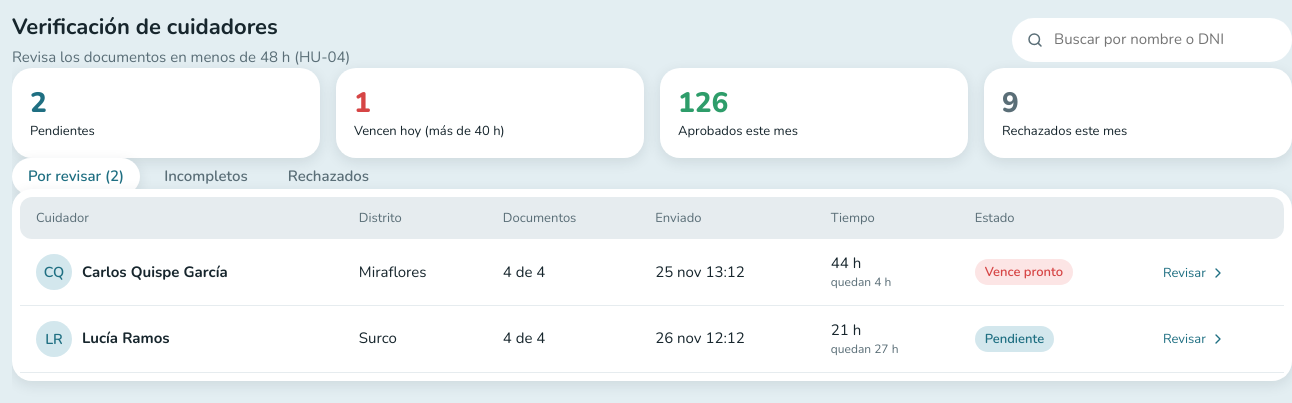
it: Verificaciones pendientes › filtra por DNI
The image size is (1292, 403).
Expected: the text "Lucía Ramos" is shown, [82,328,170,349]
Type "4011" into the search field.
click(1165, 40); type("4011")  # box [1052,28,1278,51]
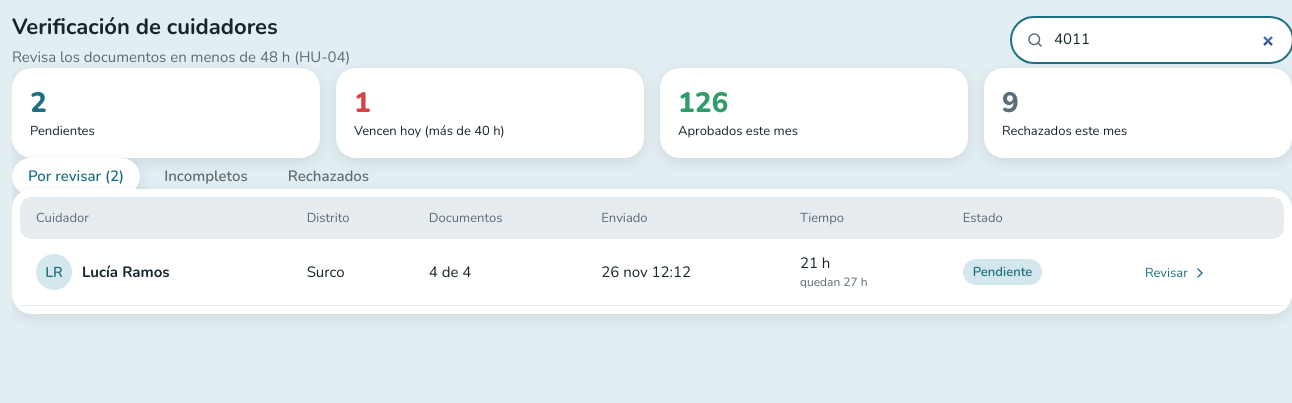
Expected: the text "Lucía Ramos" is shown, [82,262,170,283]
Result: the text "Carlos Quispe García" is gone
